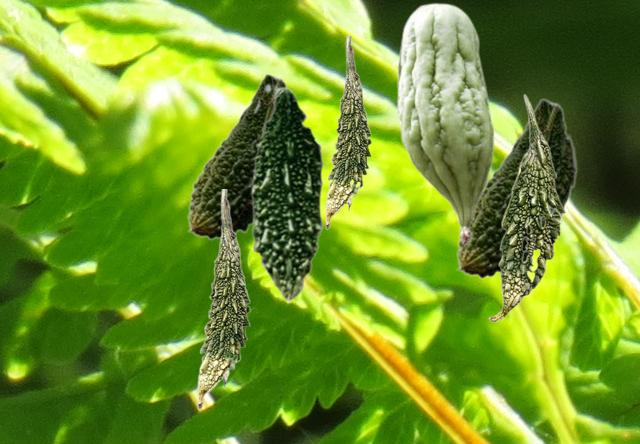ampalaya: (396, 2, 494, 244), (456, 98, 577, 278), (488, 93, 565, 321), (250, 83, 328, 303), (187, 73, 289, 239), (197, 189, 250, 409), (325, 36, 371, 229)
